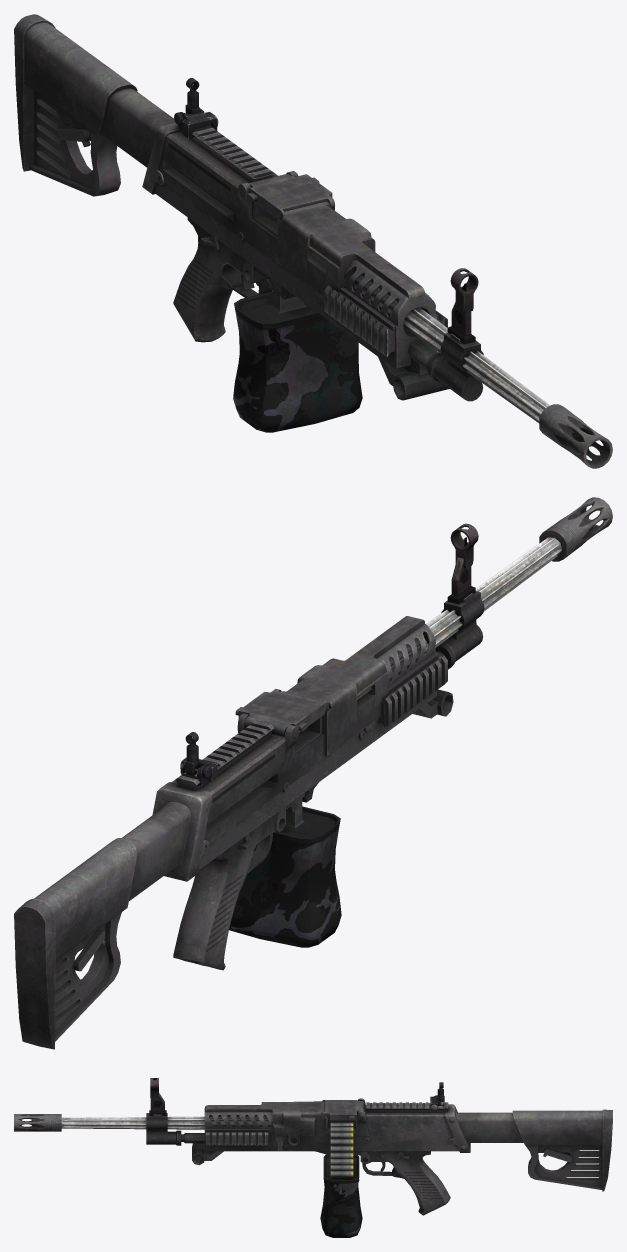
File: LSAT.fbx
The picture shows the model from 3 angles, top to bottom: view 1: azimuth 30°, elevation 25°; view 2: azimuth 150°, elevation 25°; view 3: azimuth 270°, elevation 25°; orthographic projection. The views are drawn at different scales.
Visible parts, largest first — view 1: Mesh_0006, MAG, MAGWELL, Mesh_0009, Mesh_0008; view 2: Mesh_0006, MAG, MAGWELL, Mesh_0009, Mesh_0008; view 3: Mesh_0006, MAG, BELT, MAGWELL, Mesh_0009, Mesh_0008.
Part boxes in pixels (x1,y1,x2,y2): Mesh_0006: [14, 14, 612, 468]; MAG: [233, 278, 362, 432]; MAGWELL: [246, 173, 335, 219]; Mesh_0009: [447, 268, 478, 344]; Mesh_0008: [174, 78, 218, 138]; Mesh_0006: [14, 497, 612, 1049]; MAG: [229, 793, 341, 947]; MAGWELL: [235, 689, 329, 736]; Mesh_0009: [447, 523, 478, 604]; Mesh_0008: [180, 732, 217, 785]; Mesh_0006: [14, 1098, 612, 1215]; MAG: [320, 1154, 362, 1237]; BELT: [330, 1122, 353, 1176]; MAGWELL: [321, 1100, 364, 1120]; Mesh_0009: [149, 1078, 166, 1115]; Mesh_0008: [430, 1082, 444, 1111].
Bounding box in the file's own units: 10 × 24.28 × 90.12.
Materials: 2 (2 with a texture image).
